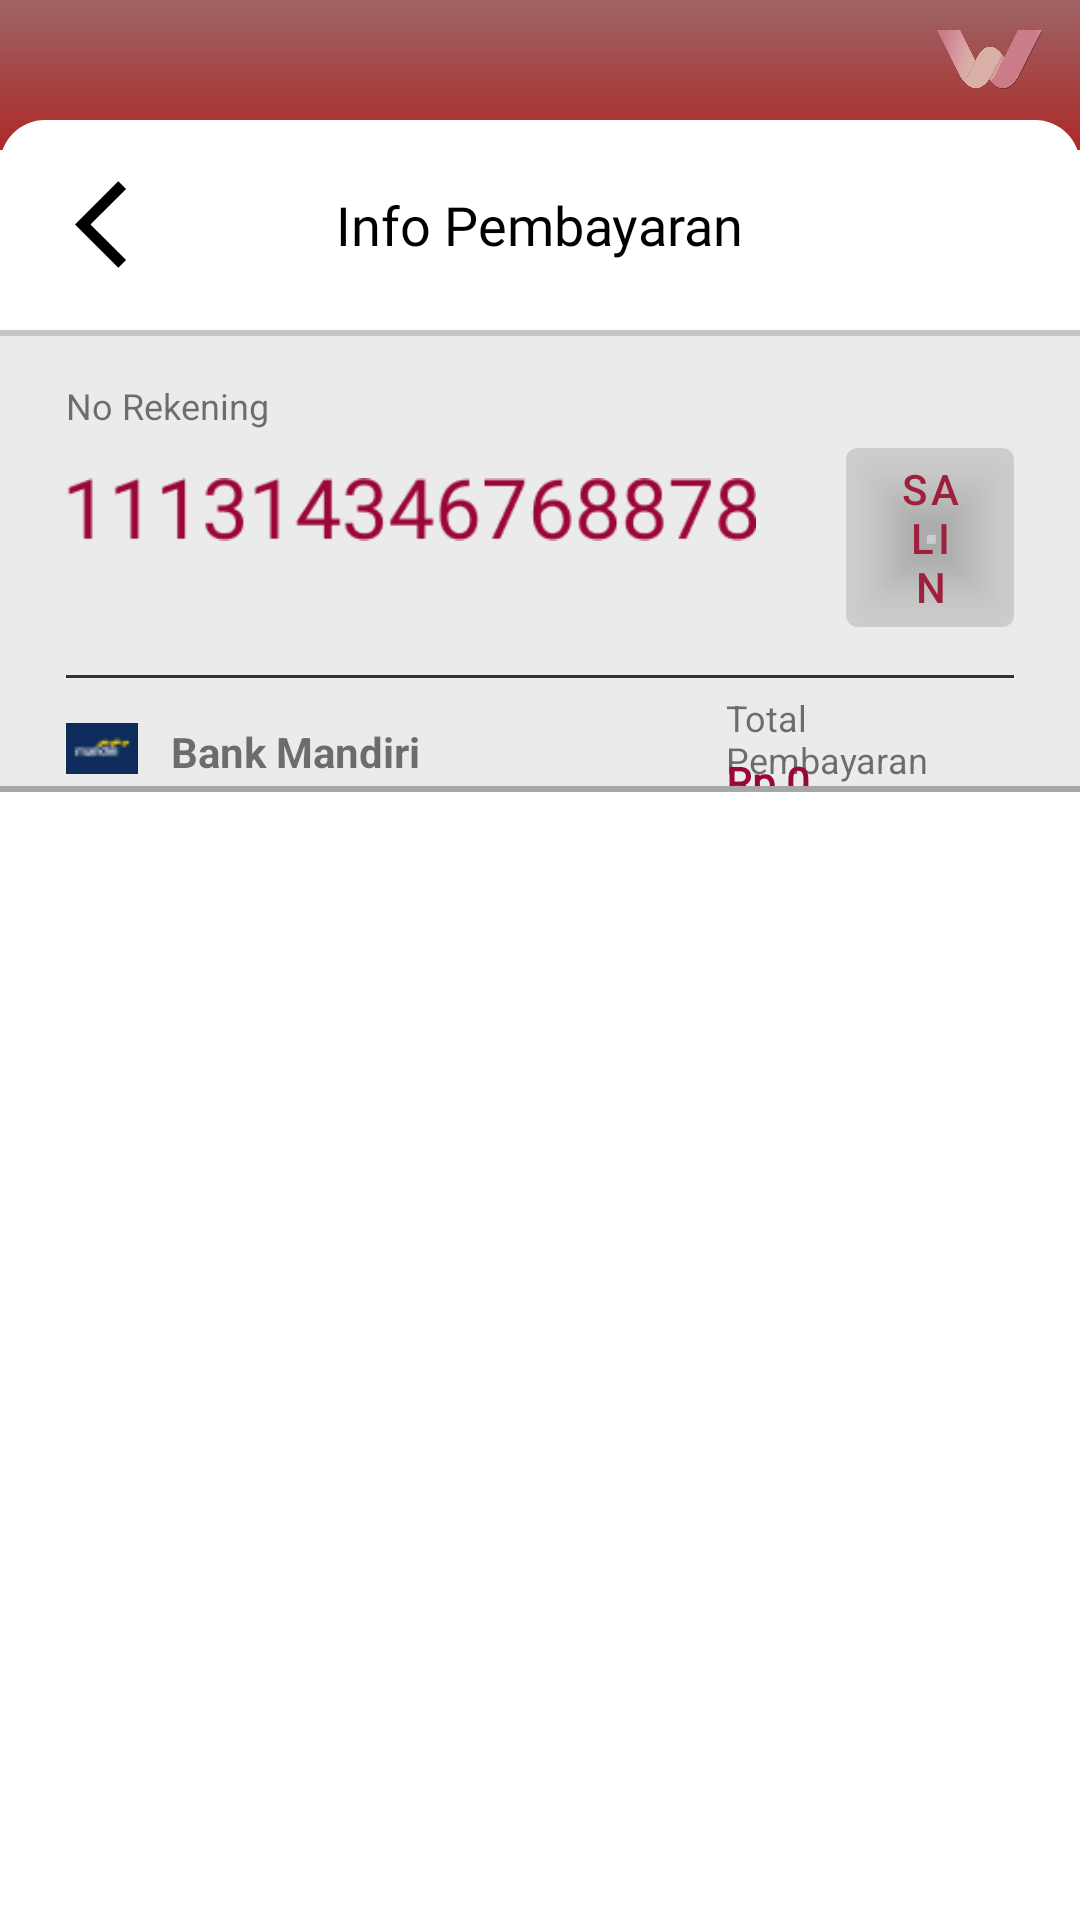

Screen size 1080×1920. Icon name, then its center in pixels as (x,y):
arrow back: (100,224)
